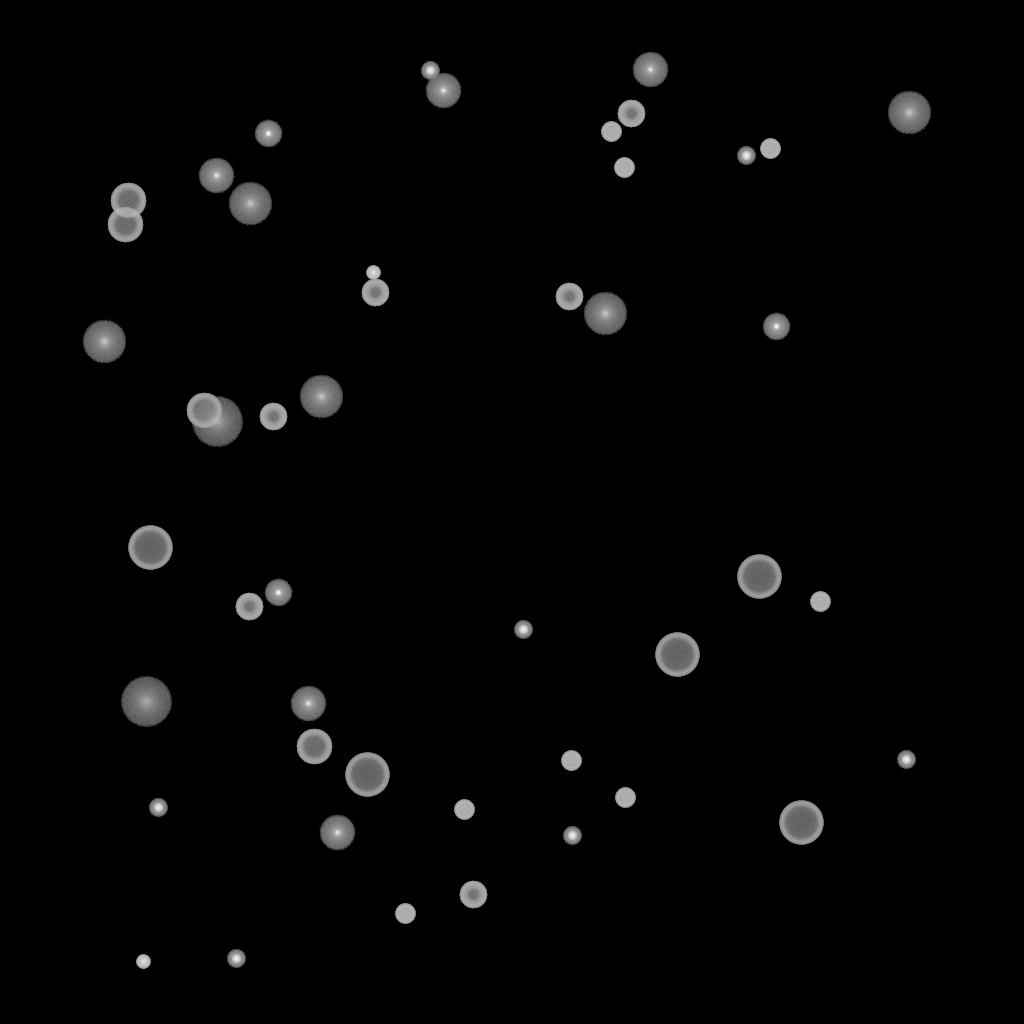depth:-10: (264, 579, 292, 607), (254, 120, 282, 148), (762, 313, 790, 341)
depth:-20: (897, 751, 915, 769), (563, 827, 581, 845), (737, 147, 755, 165), (149, 799, 167, 817), (514, 621, 532, 639), (421, 62, 439, 80), (227, 950, 245, 968)
depth:-30: (366, 266, 380, 280), (136, 955, 150, 969)
depth:-40: (614, 158, 634, 178), (760, 139, 780, 159), (601, 122, 621, 142), (810, 592, 830, 612), (395, 904, 415, 924), (454, 800, 474, 820), (561, 751, 581, 771), (615, 788, 635, 808)
depth:-50: (617, 100, 645, 128), (259, 403, 287, 431), (459, 881, 487, 909), (361, 279, 389, 307), (235, 593, 263, 621), (555, 283, 583, 311)
depth:-60: (107, 207, 143, 243), (296, 729, 332, 765), (110, 183, 146, 219), (186, 393, 222, 429)
depth:-70: (128, 526, 172, 570), (655, 633, 699, 677), (345, 753, 389, 797), (779, 801, 823, 845), (737, 555, 781, 599)
depth:0: (198, 158, 234, 194), (319, 815, 355, 851), (290, 686, 326, 722), (632, 52, 668, 88), (425, 73, 461, 109)
depth:10: (82, 320, 126, 364), (887, 91, 931, 135), (583, 292, 627, 336), (299, 375, 343, 419), (228, 182, 272, 226)
depth:20: (120, 677, 172, 727), (191, 397, 243, 447)
